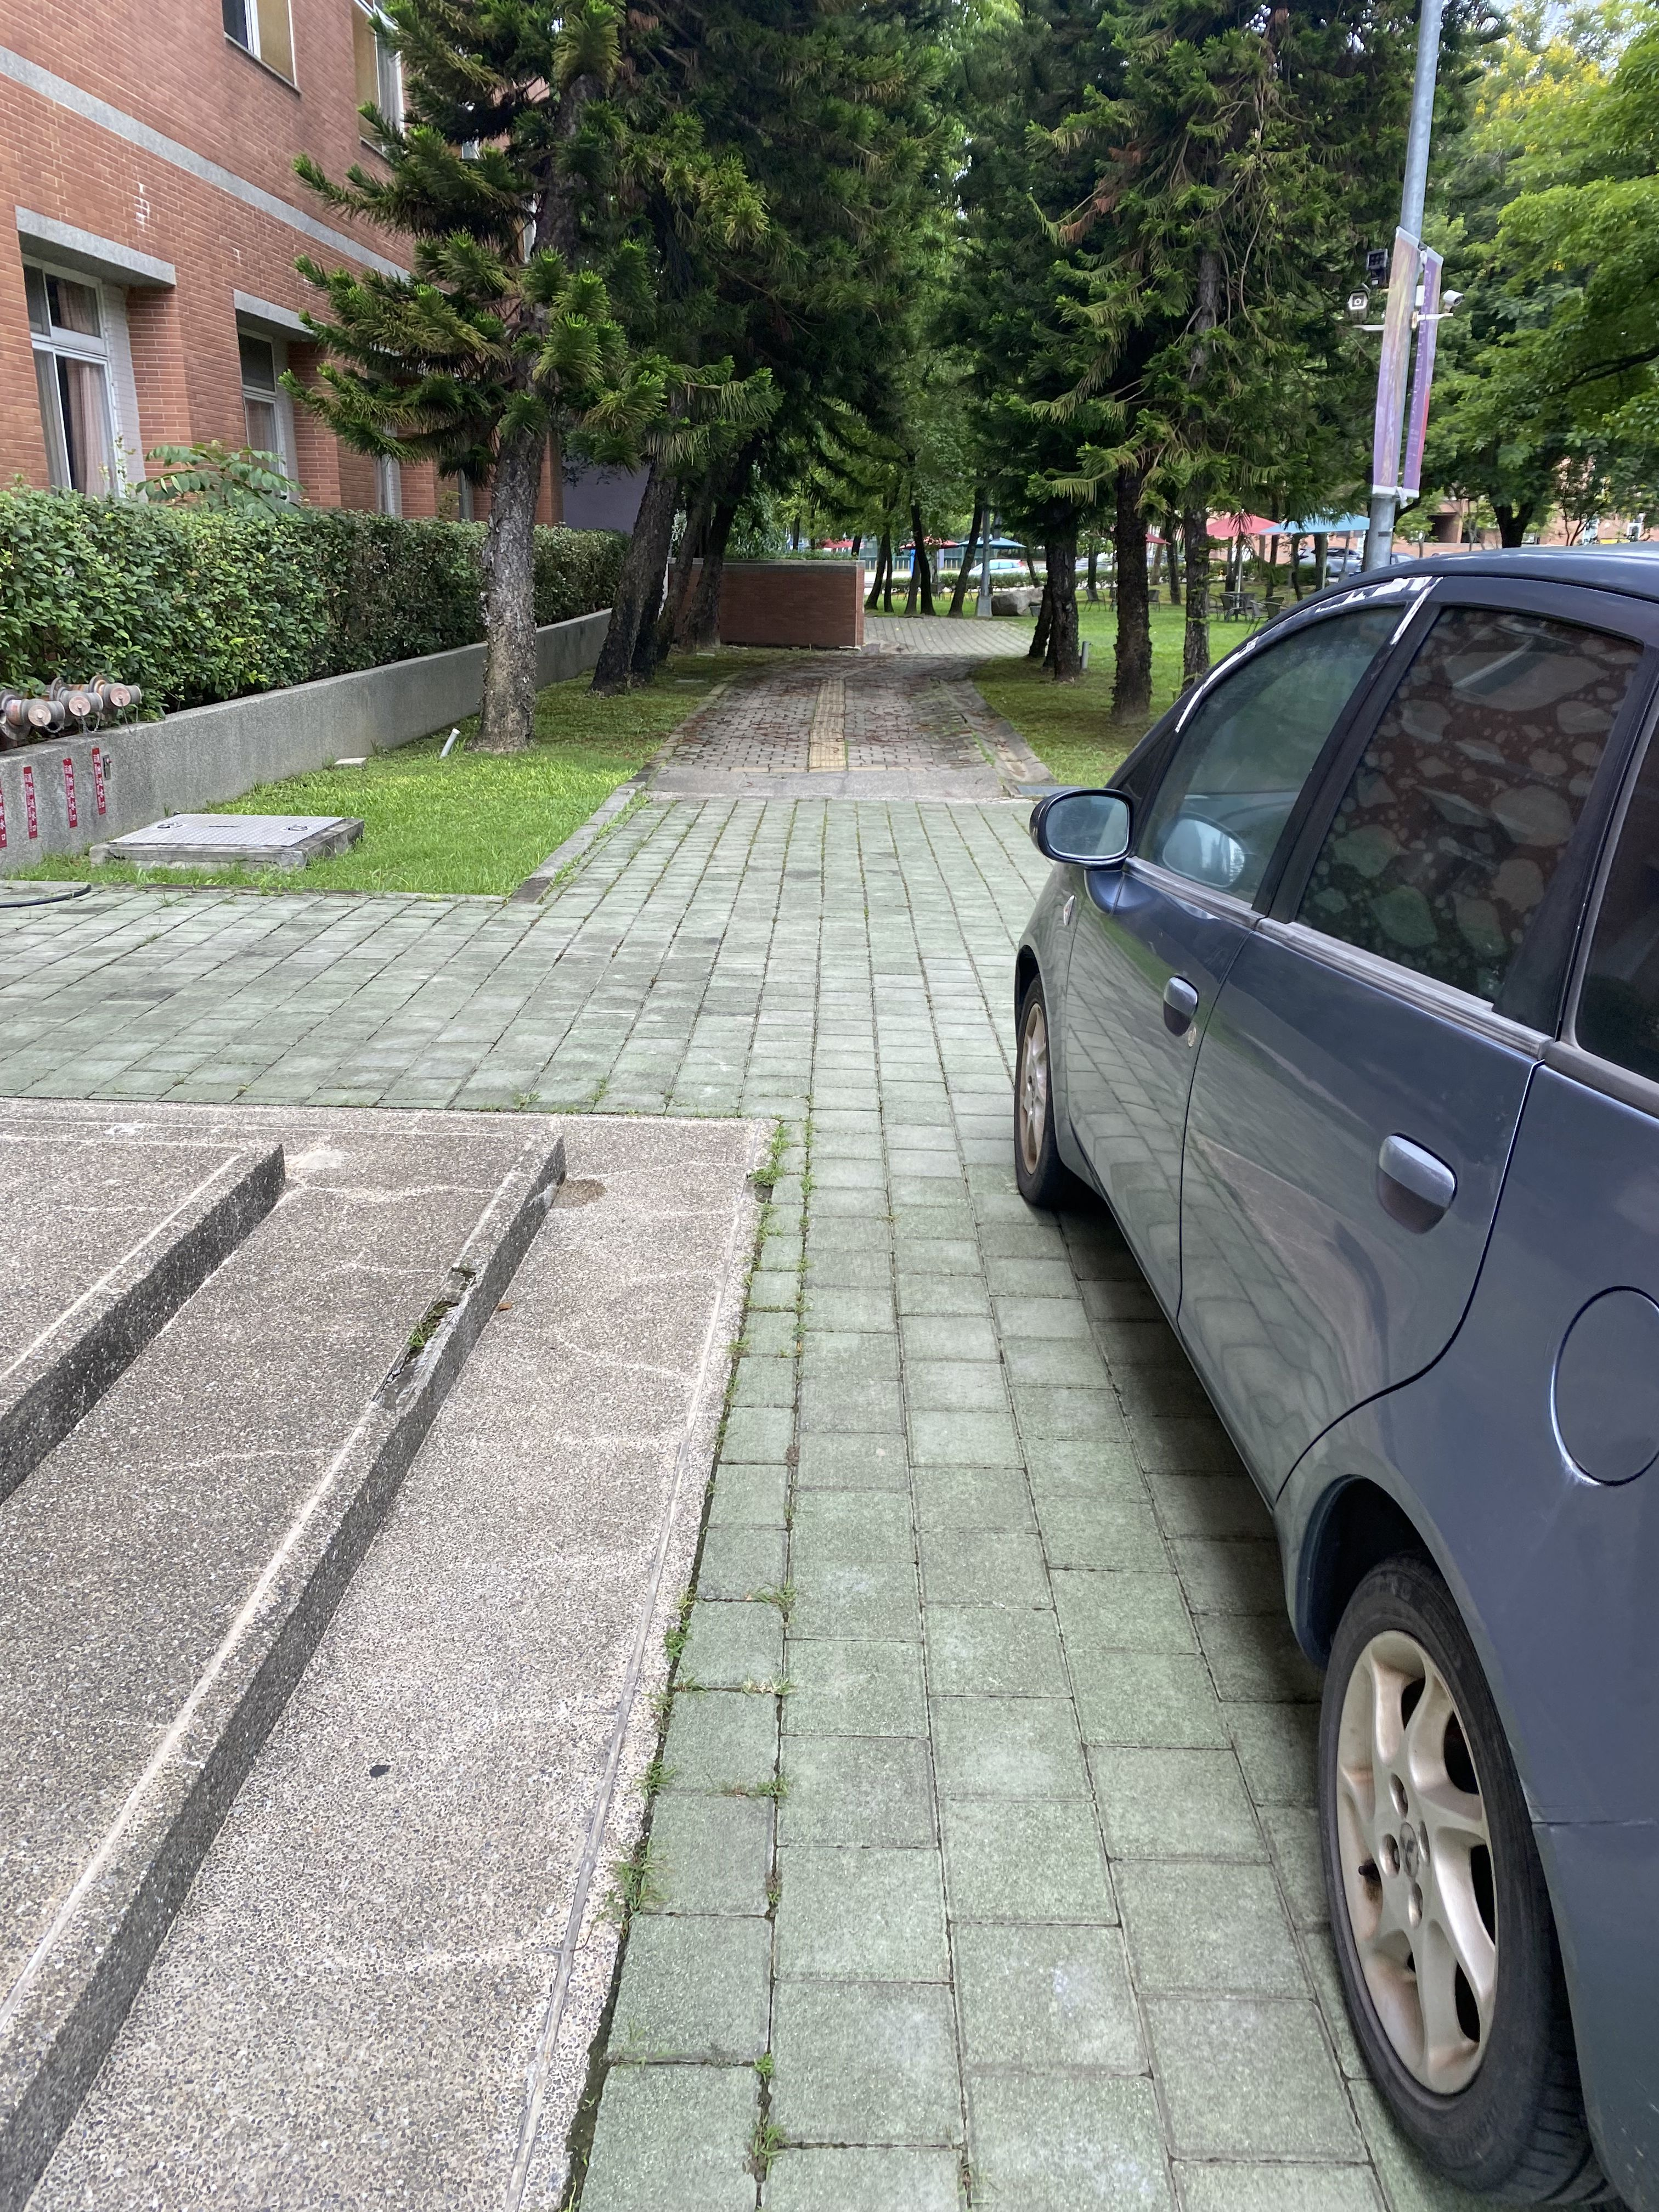sidewalk: (558, 601, 1486, 2212)
